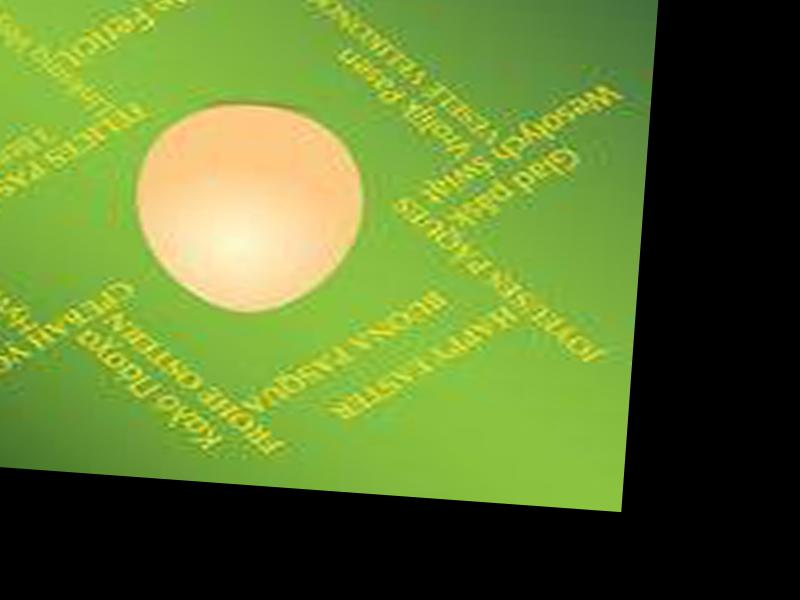Eggs: (132, 97, 368, 319)
